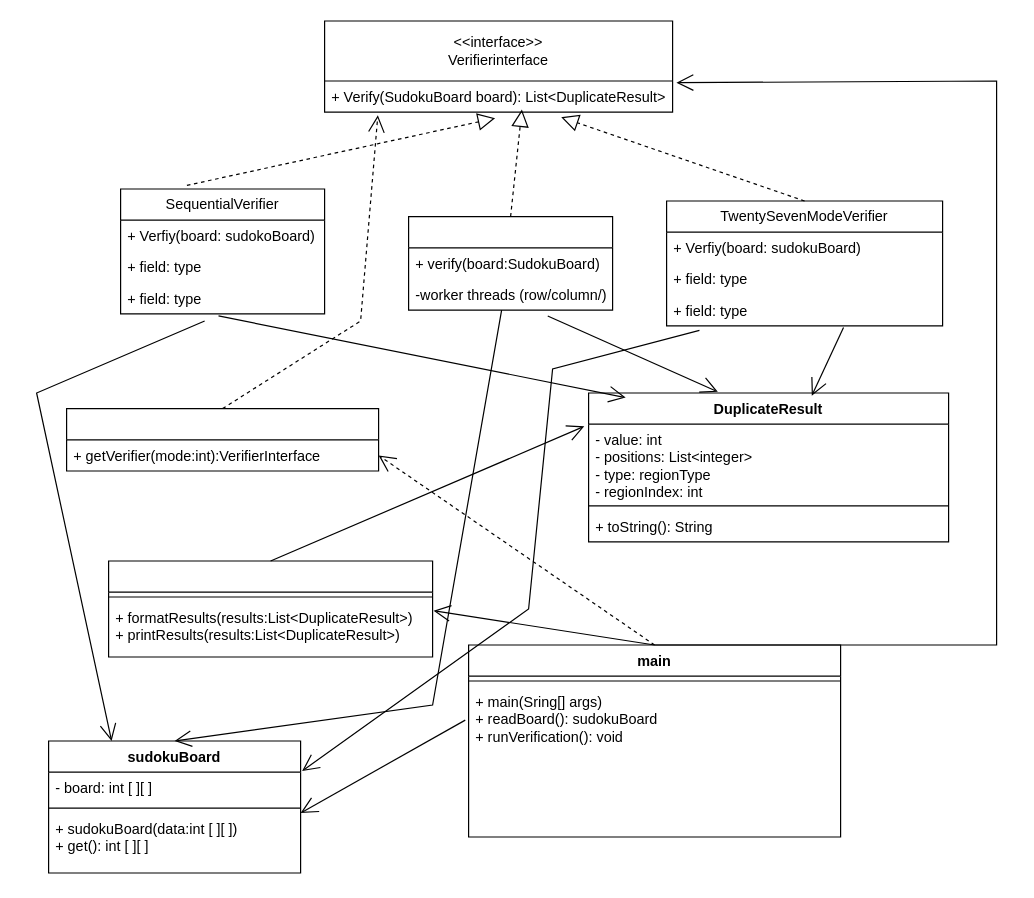
Some shapes in this 1034 by 898 pixel diagram are drawn without their labels. The box of each missing label's shape, as (x1, y1, x2, y2) in pixels:
Output: (107, 560, 433, 657)
threeModeVerifier: (407, 215, 613, 310)
VerifierFactory: (65, 407, 379, 471)
